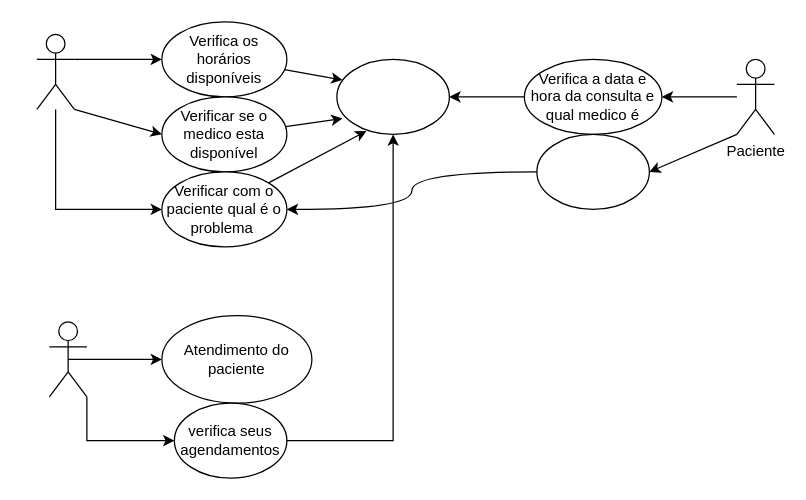
Image size: 806x500. Some labels were removed from this diagram. The shapes that lost their labels are listed below. From the top down, each one's centre as x and y in pixels, then its label:
the point at 55,71: Atendente
the point at 392,96: Faz o agendamento
the point at 592,171: informa sobre sua situação ao atendente
the point at 67,359: Médico
